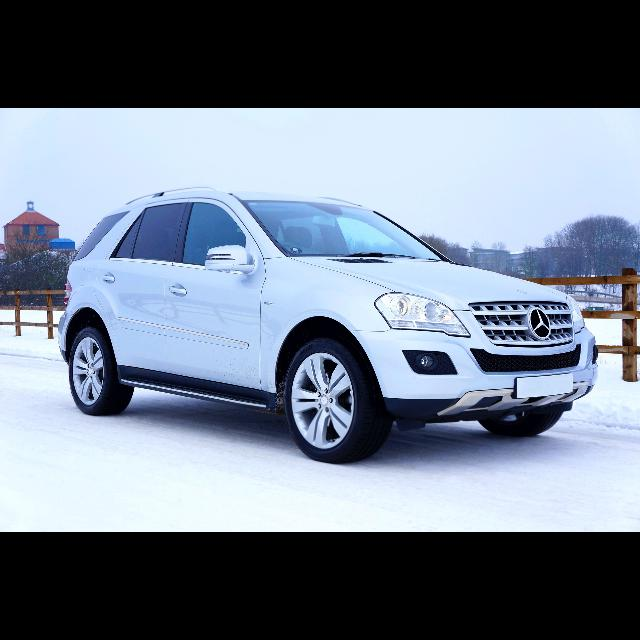cars: (52, 173, 608, 473)
